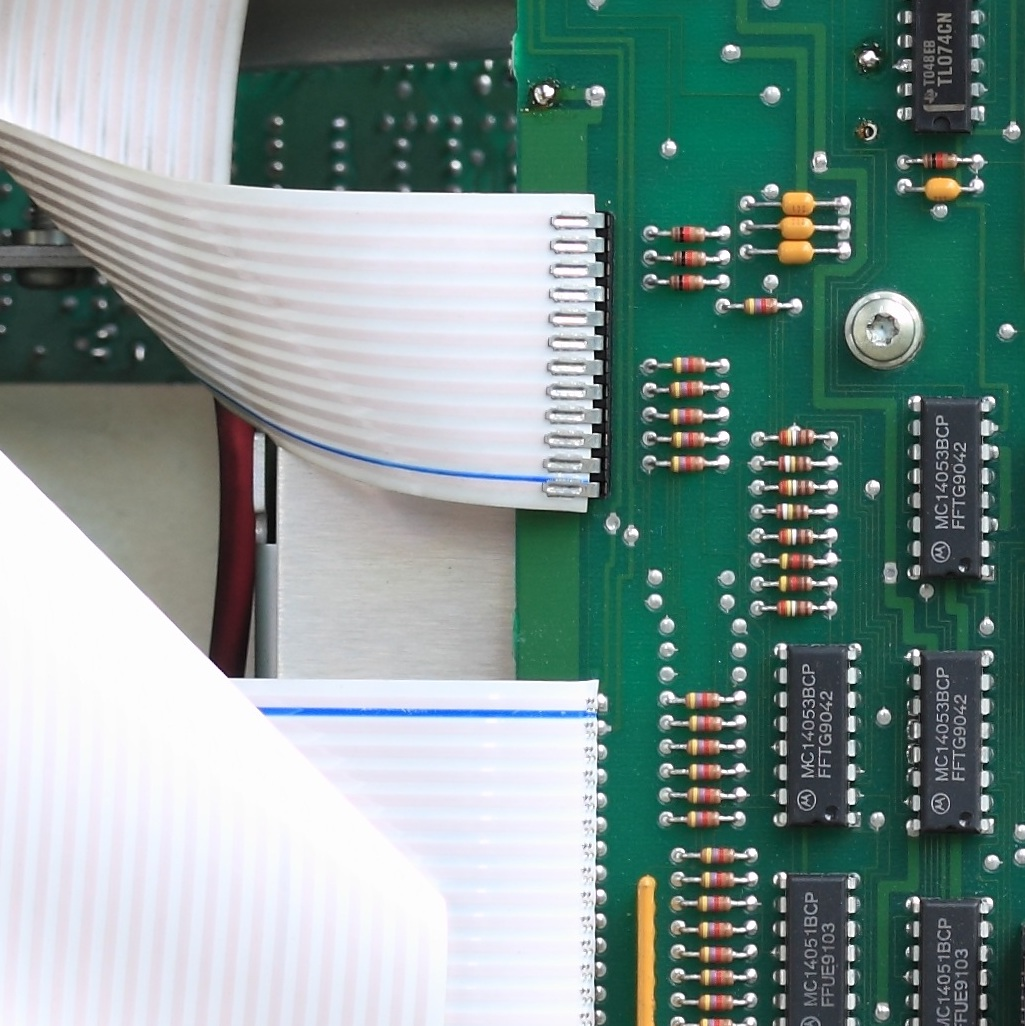Resistor: (768, 524, 826, 549), (768, 453, 825, 477), (662, 221, 714, 247), (767, 502, 825, 525), (677, 687, 730, 712), (917, 147, 963, 175), (769, 598, 819, 623), (663, 427, 711, 453), (693, 843, 742, 868), (690, 991, 743, 1014), (772, 426, 822, 450), (739, 294, 785, 320), (688, 894, 742, 916), (690, 944, 744, 966), (694, 869, 745, 892), (681, 736, 729, 760), (666, 248, 715, 271), (662, 454, 710, 477), (770, 574, 820, 596), (680, 786, 732, 807), (692, 967, 741, 989), (664, 379, 710, 402), (772, 551, 822, 572), (664, 405, 709, 428), (682, 762, 731, 783), (774, 477, 821, 498), (680, 809, 727, 830), (663, 273, 711, 293), (679, 715, 729, 734), (667, 355, 713, 375), (690, 921, 741, 939)
